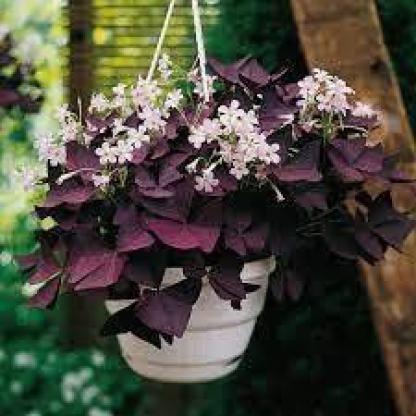Kupu-Kupu: (121, 249, 245, 356), (314, 202, 410, 260), (20, 239, 118, 295), (131, 181, 229, 229)
